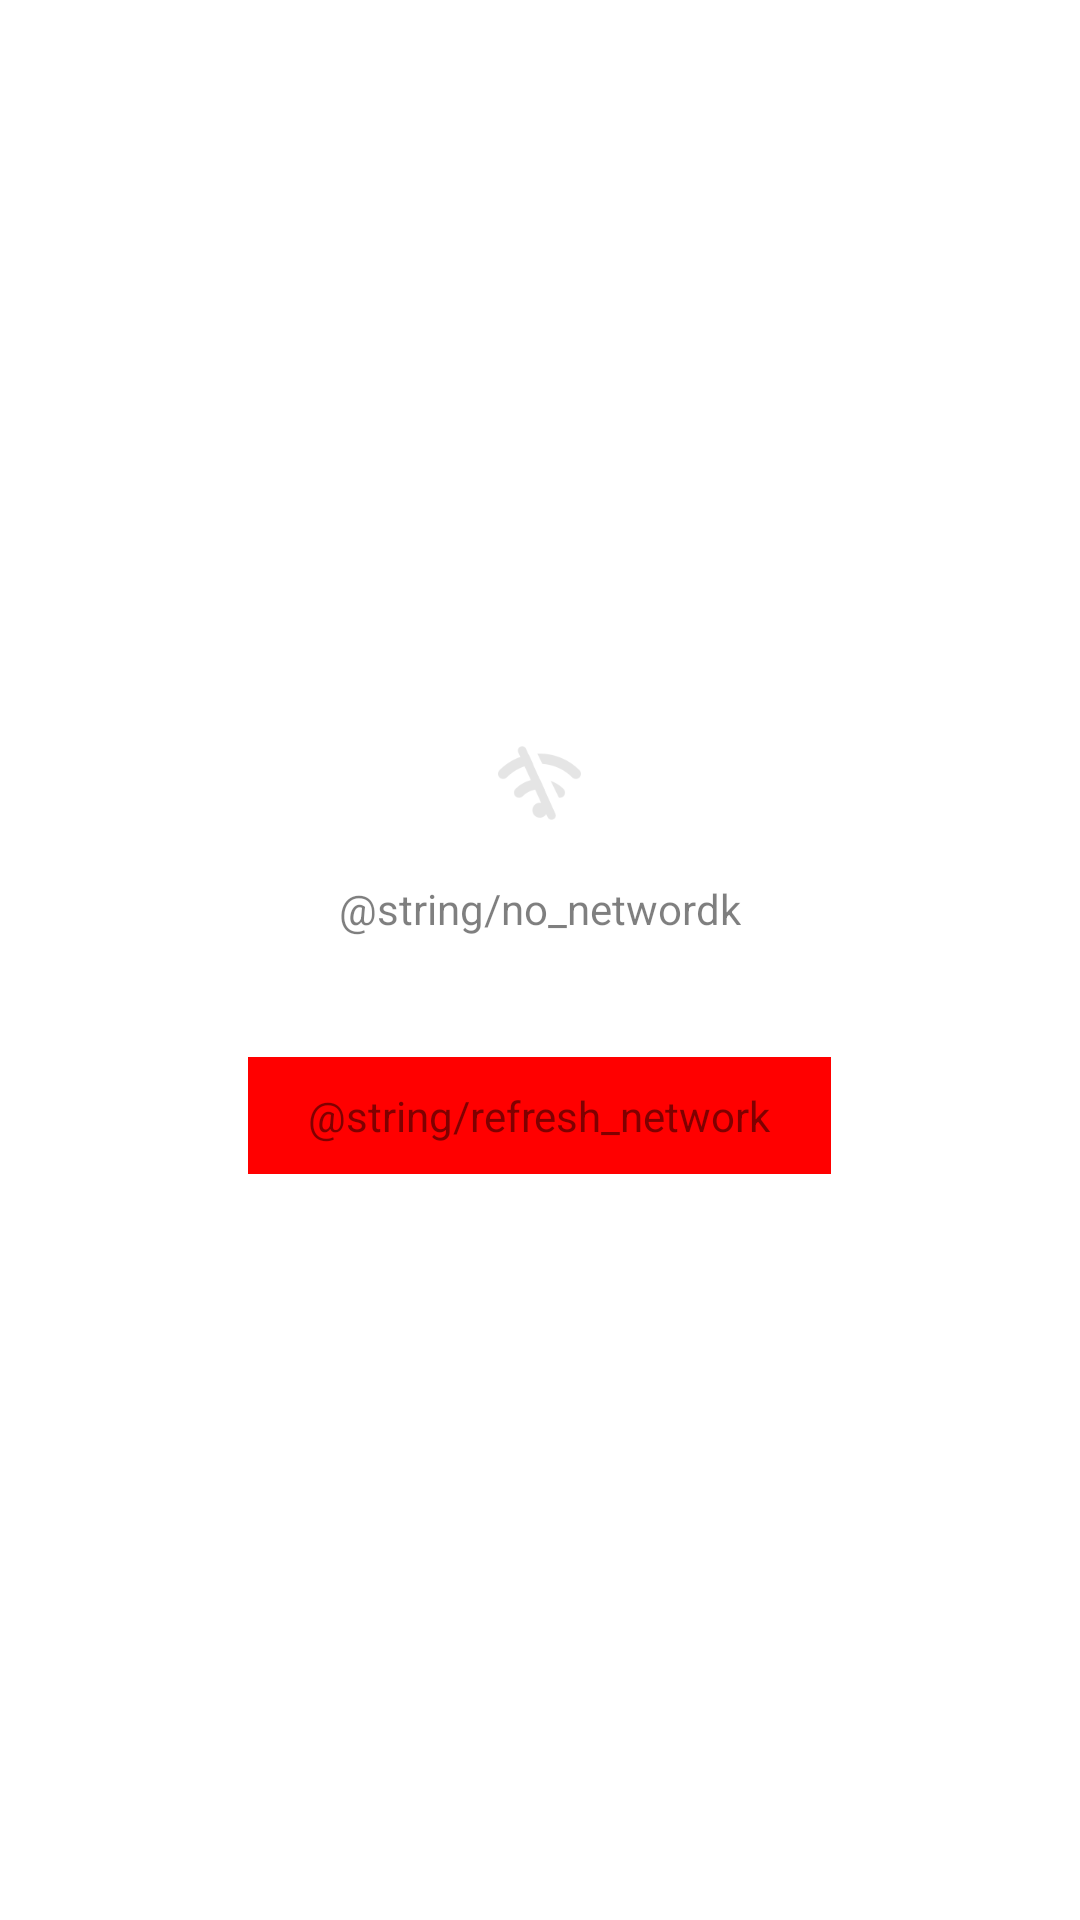

Named icons in this screenshot (1080 × 1920) and their centers, [x,y]:
no network: [539,783]
